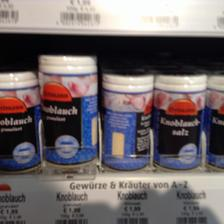Gewuerze: (36, 54, 96, 164), (153, 68, 207, 168), (100, 69, 152, 170), (0, 70, 38, 174)
